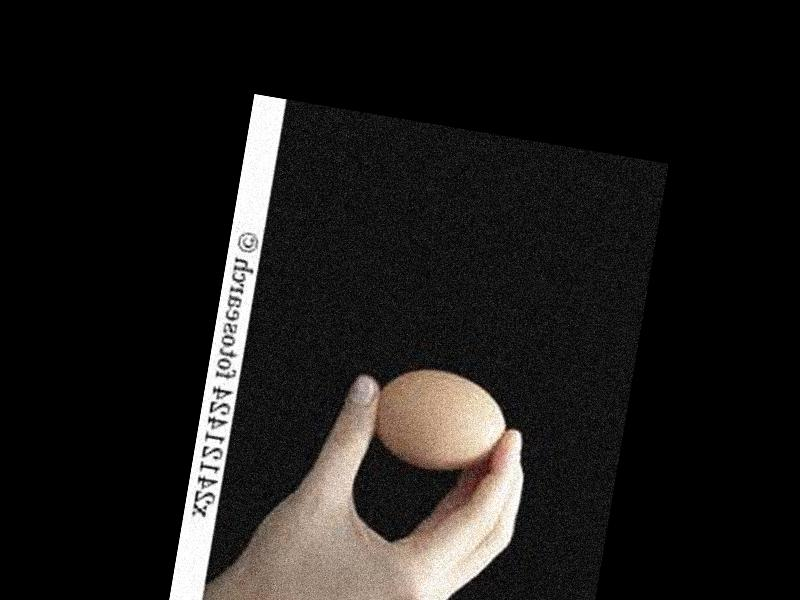Eggs: (368, 362, 516, 480)
